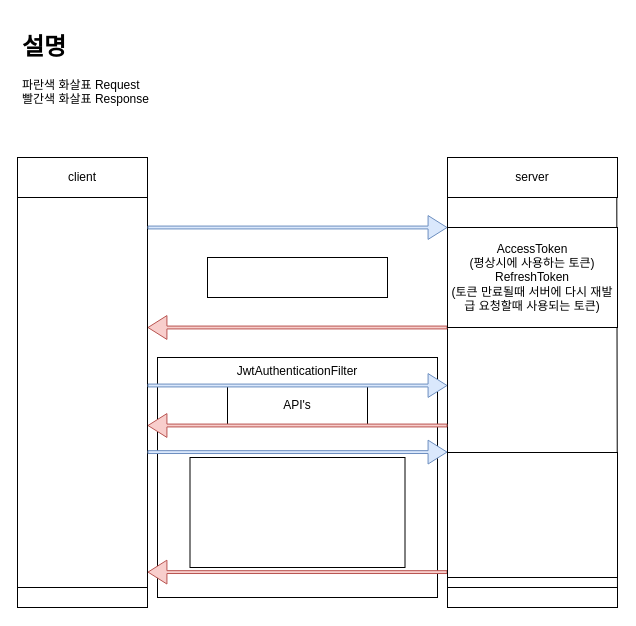
The diagram is 636 pixels wide and 626 high, and some of its shapes have lost their labels. The shapes that lost their labels are listed below. From the top down, each one's centre as x and y in pixels, then its label:
At point 297,277: "토큰 발급 /api/v1/auth/token".
At point 297,512: "만료된 토큰 재발급 /api/v1/auth/refresh".
At point 532,515: "DB에 저장된 토큰인지 확인 후 재발급 처리 이틀 단위로 만료된 토큰들 제거".
